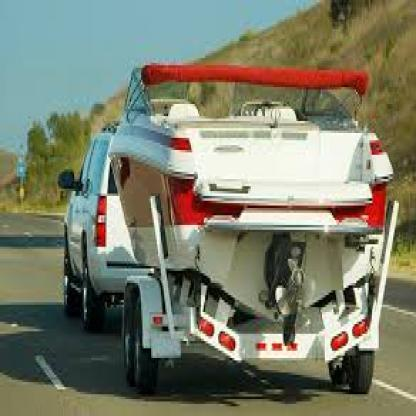accident: (93, 54, 403, 409)
